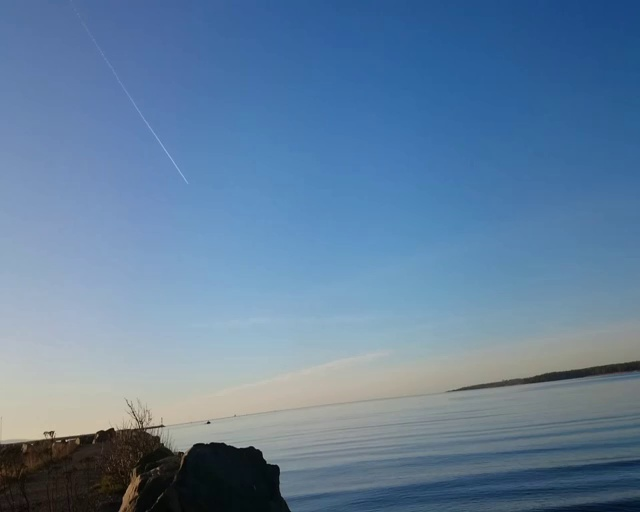AIRPLANE: (60, 3, 192, 188)
